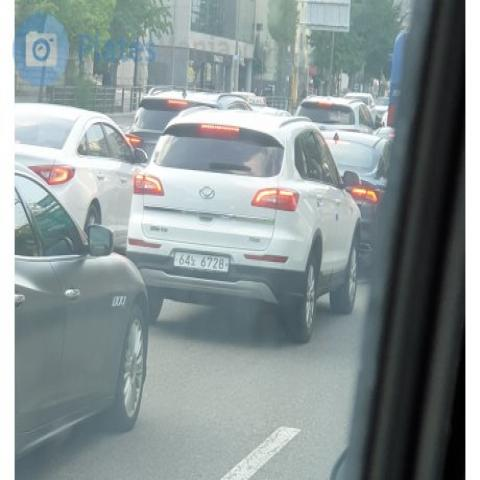LP: (172, 244, 234, 278)
